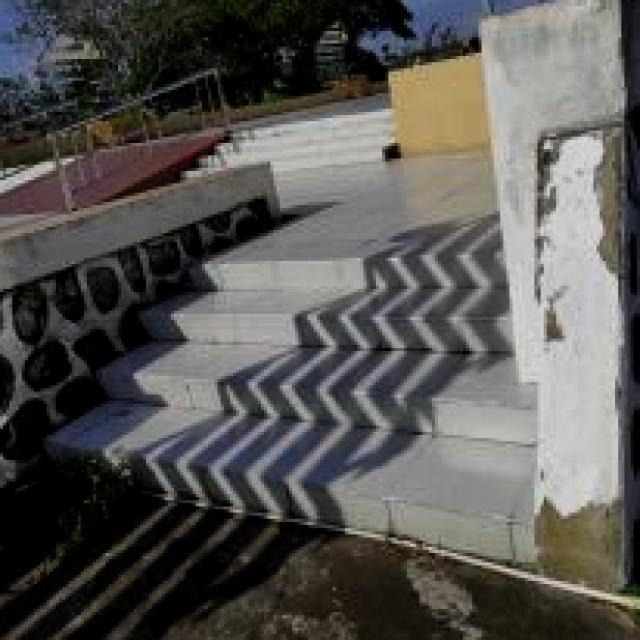upstair: (107, 253, 591, 563)
